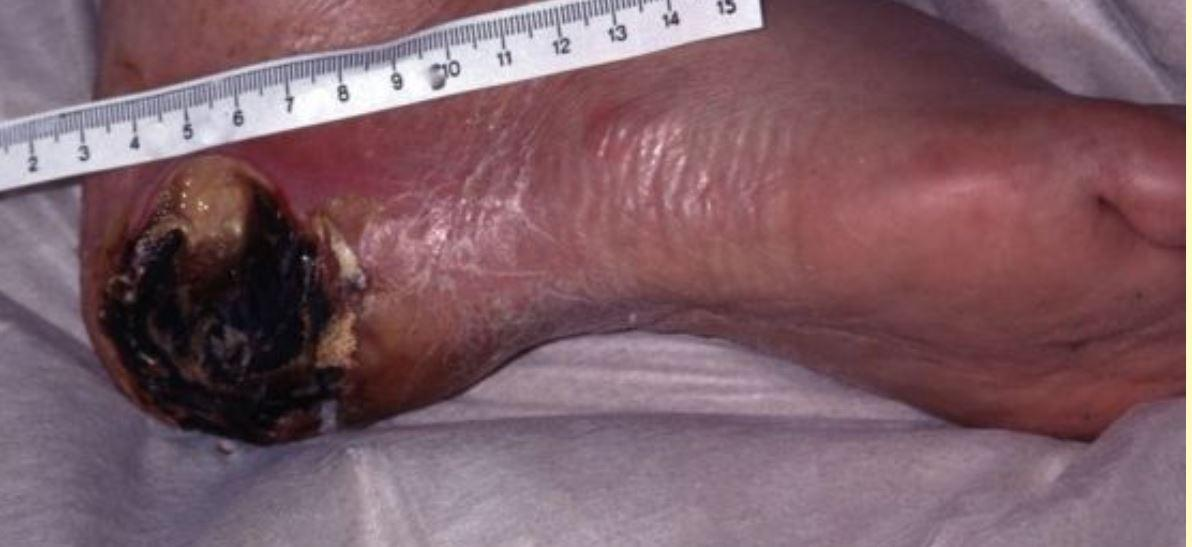Stage4: (109, 145, 412, 448)
